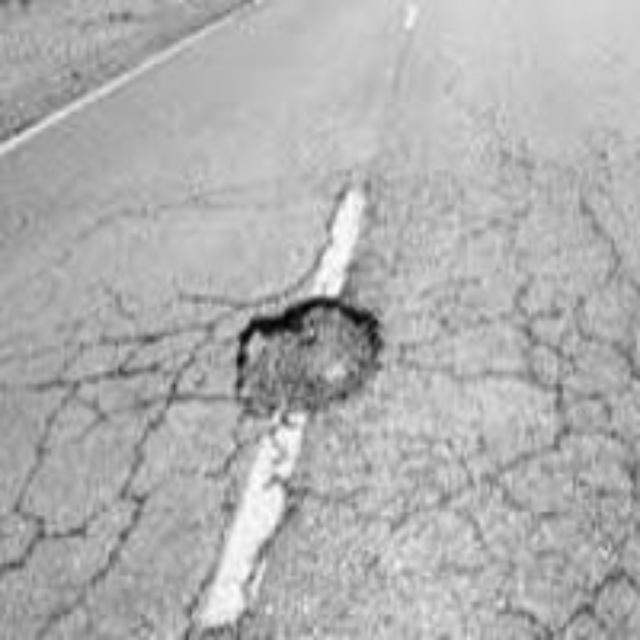Crack: (425, 114, 640, 640), (0, 261, 210, 605)
Pothole: (212, 307, 368, 410)
